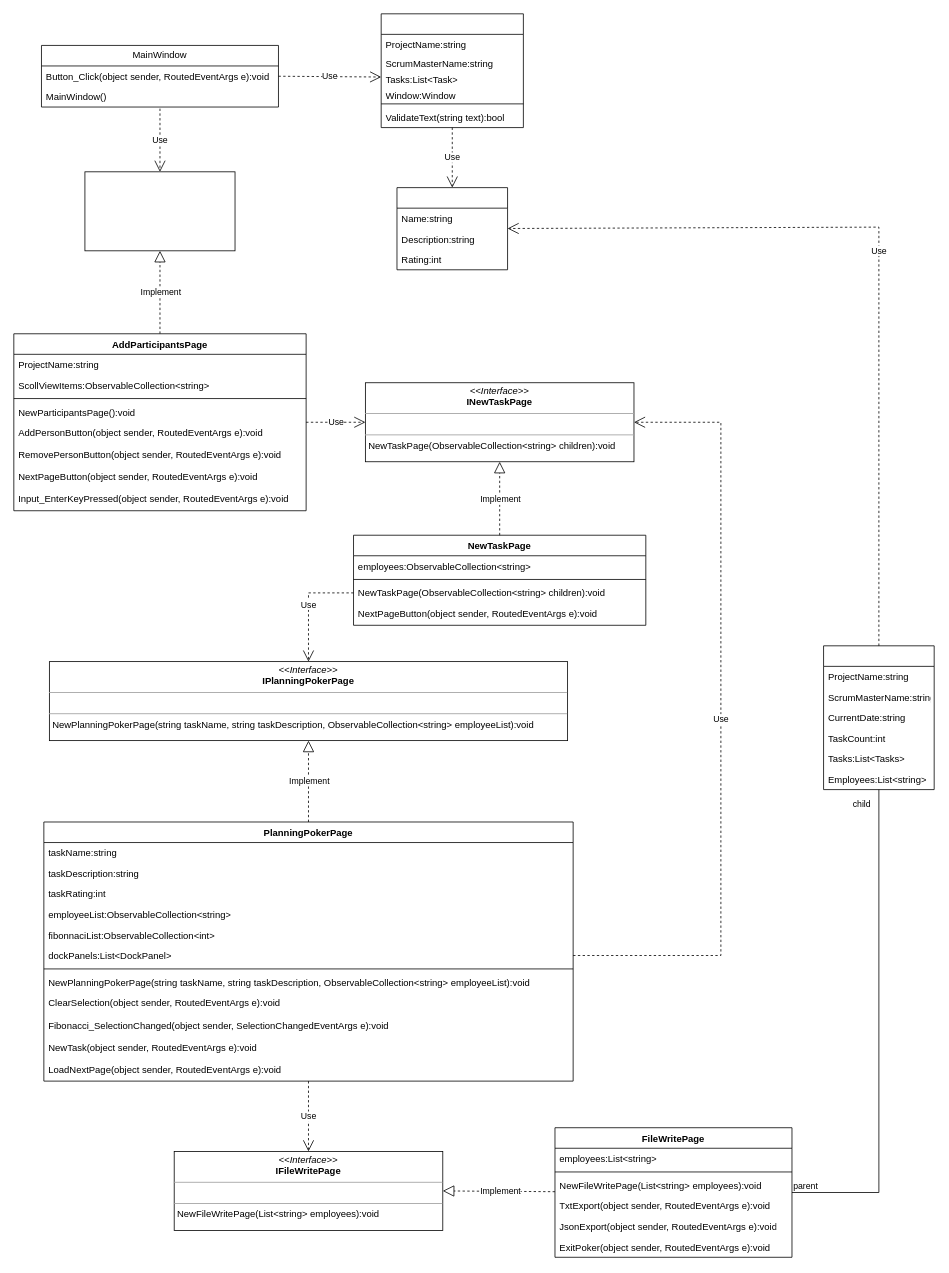
Image size: 949x1273. Some labels were removed from this diagram. The shapes that lost their labels are listed below. From the top down, each one's box as (x1, y1, x2, y2) in pixels, then its label:
(380, 13, 523, 128): Global
(84, 171, 235, 251): <<Interface>> IAddParticipantsPage NewParticipantsPage():void
(396, 187, 508, 270): Task
(823, 645, 934, 790): JsonOutput
